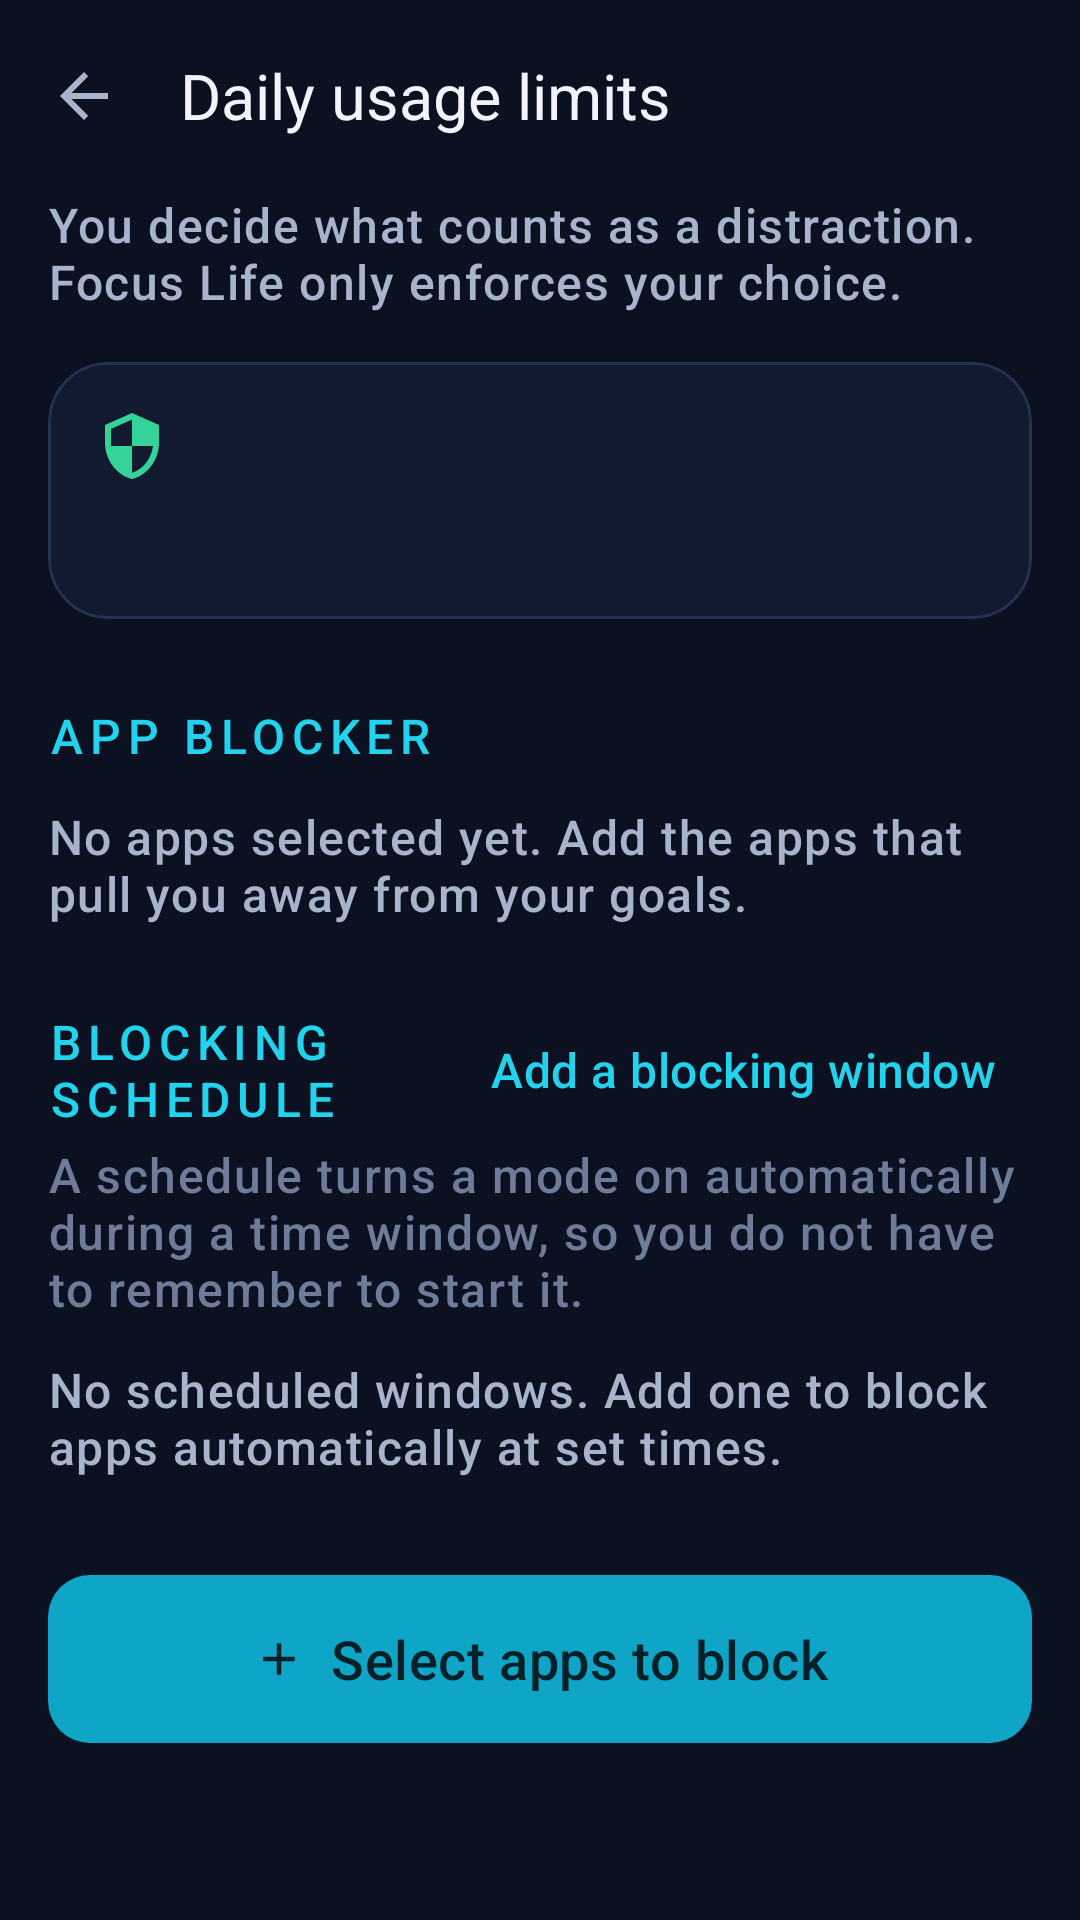

Point at icon controls on the screen. Image size 1080 x 1920, points as point (x, y).
shield: point (132, 446)
